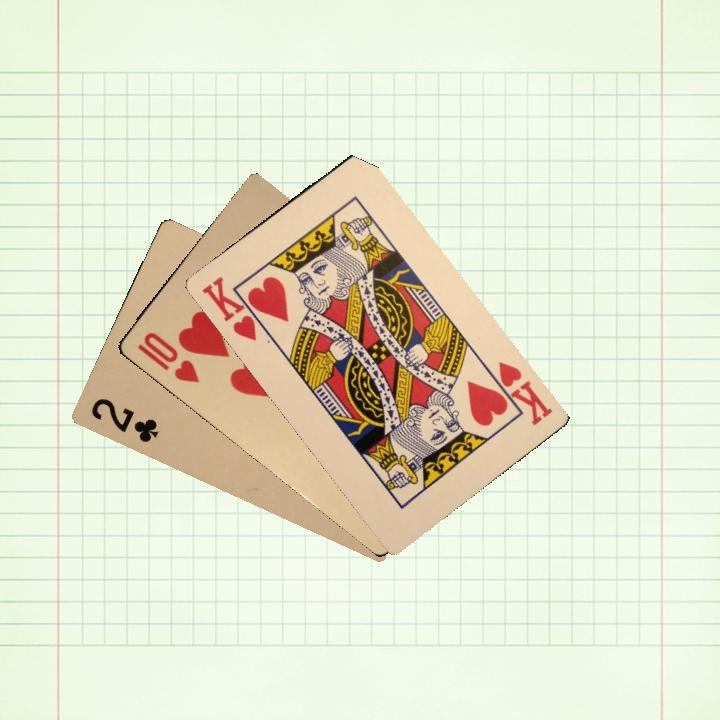10h: (133, 327, 202, 386)
2c: (87, 394, 162, 445)
Kh: (198, 272, 270, 344), (482, 357, 555, 428)
